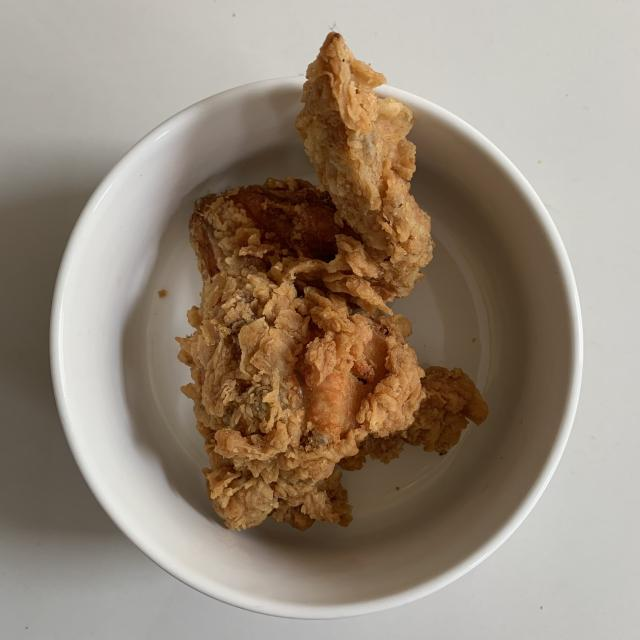Frango: (182, 24, 486, 531)
